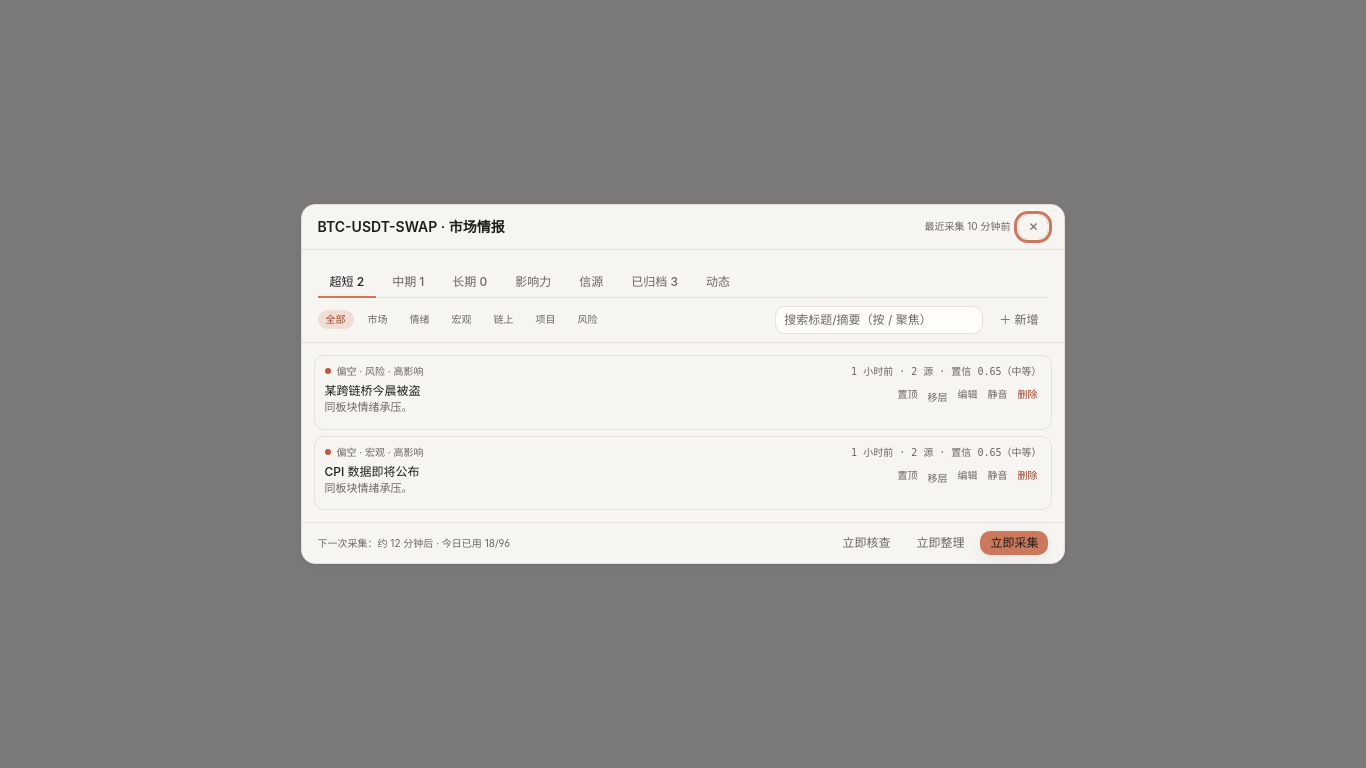
IntelModal › 搜索按标题与摘要过滤
The image size is (1366, 768).
Expected: the text "某跨链桥今晨被盗" is shown, [324,383,420,398]
Type "CPI" into the field named "搜索情报" at [879, 320], box [775,306,983,334]
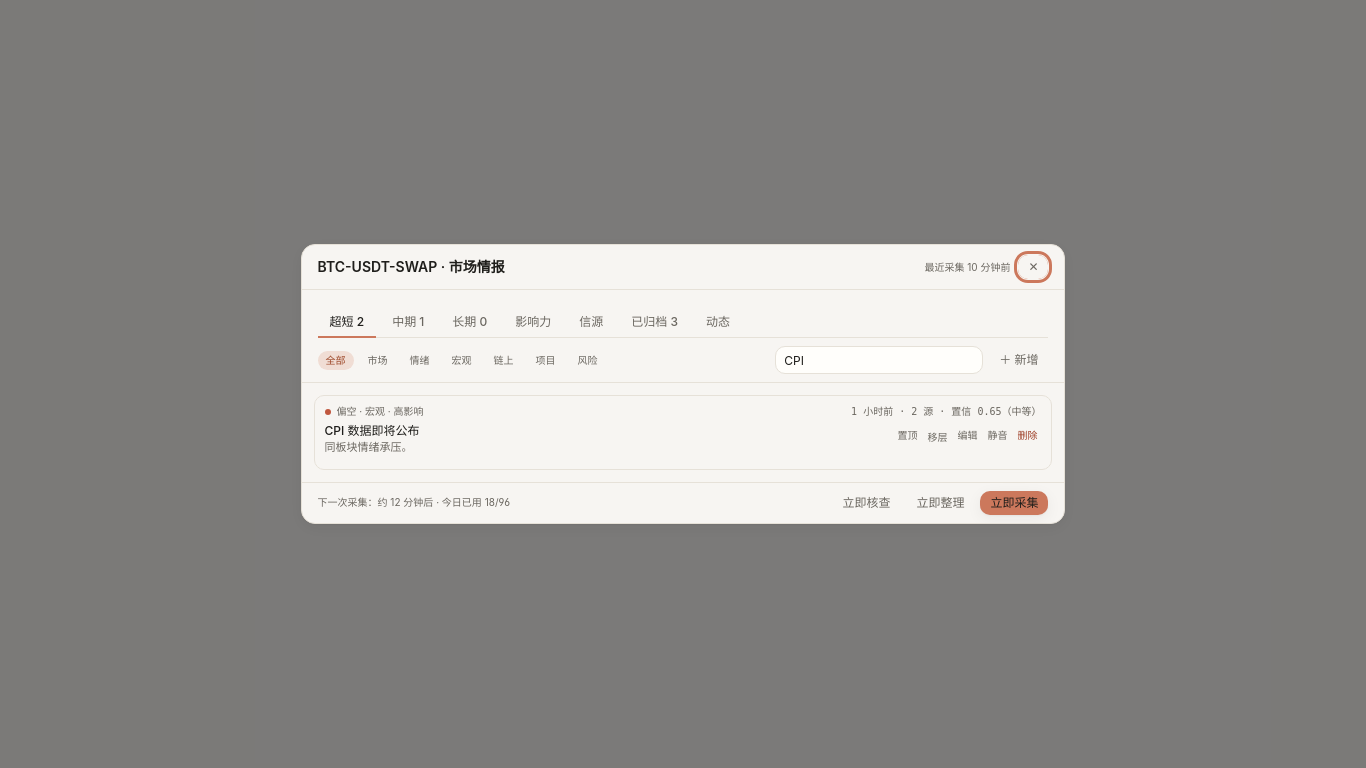
Expected: the text "CPI 数据即将公布" is shown, [324,423,420,438]
Result: the button "某跨链桥今晨被盗" is gone
